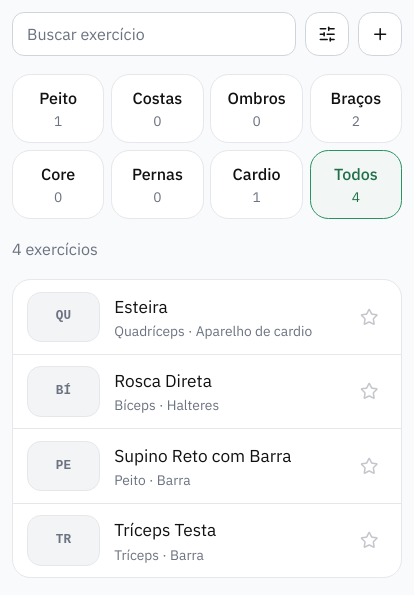
Test: refinamentos da tela Exercícios › os cartões contam pelo grupo do catálogo, e tocar filtra; Todos volta
Expected: the button "Cardio 1" is shown, [210,150,303,219]
Expected: the button "Todos 4" is shown, [310,150,402,219]
Click the button "Peito 1" at point(58, 109), box [12,74,104,143]
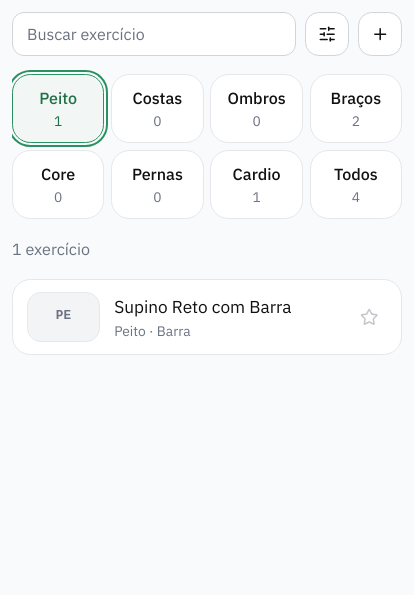
Expected: the text "Supino Reto com Barra" is shown, [114,295,292,318]
Now the button "Tríceps Testa" is gone
Click the button "Todos 4" at point(356, 185), box [310,150,402,219]
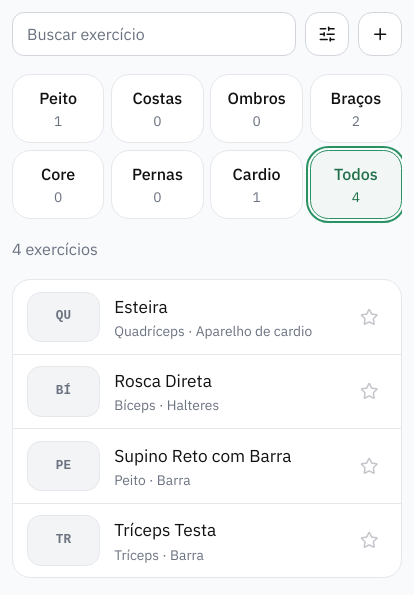
Now the text "Tríceps Testa" is shown, box [114,518,216,541]
